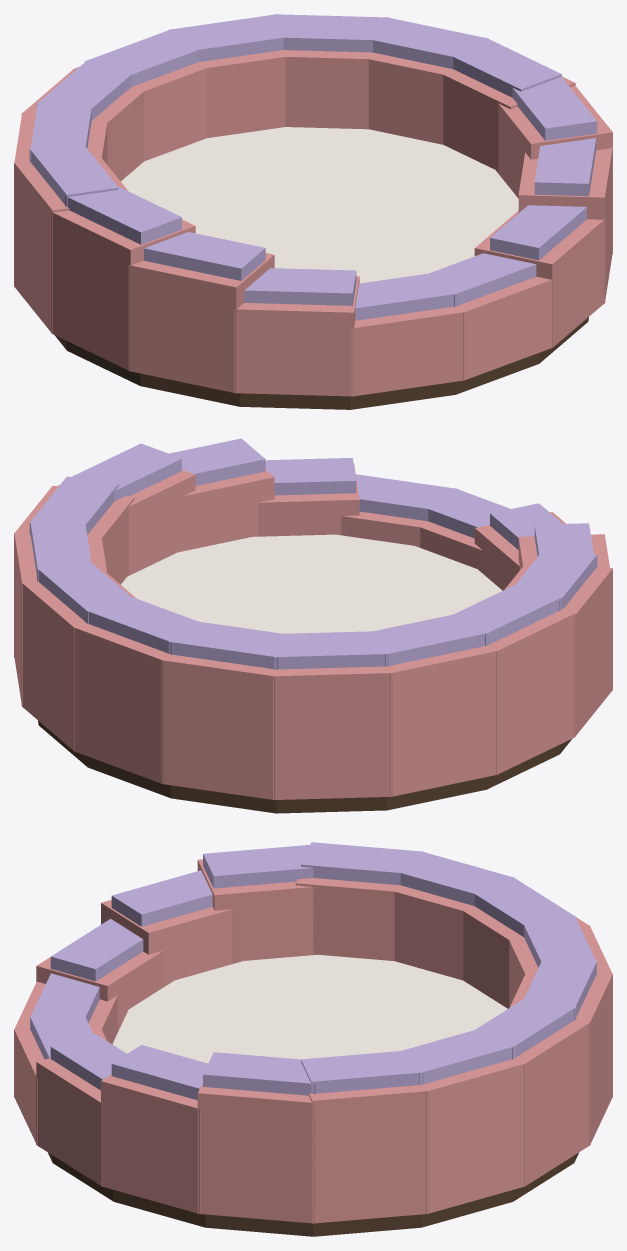
Rendered from CatCafe_Furniture_CatBed.glb.
3 renders of one model, top to bottom at view 1: azimuth 30°, elevation 25°; view 2: azimuth 150°, elevation 25°; view 3: azimuth 270°, elevation 25°, orthographic.
Visible parts, largest first — view 1: CatCafe_Furniture_CatBed; view 2: CatCafe_Furniture_CatBed; view 3: CatCafe_Furniture_CatBed.
Part boxes in pixels (bbox=[...]): CatCafe_Furniture_CatBed: bbox=[14, 14, 612, 409]; CatCafe_Furniture_CatBed: bbox=[14, 438, 612, 813]; CatCafe_Furniture_CatBed: bbox=[14, 842, 612, 1236].
Bounding box in the file's own units: 2.65 × 0.76 × 2.65.
Materials: 1 (1 with a texture image).
